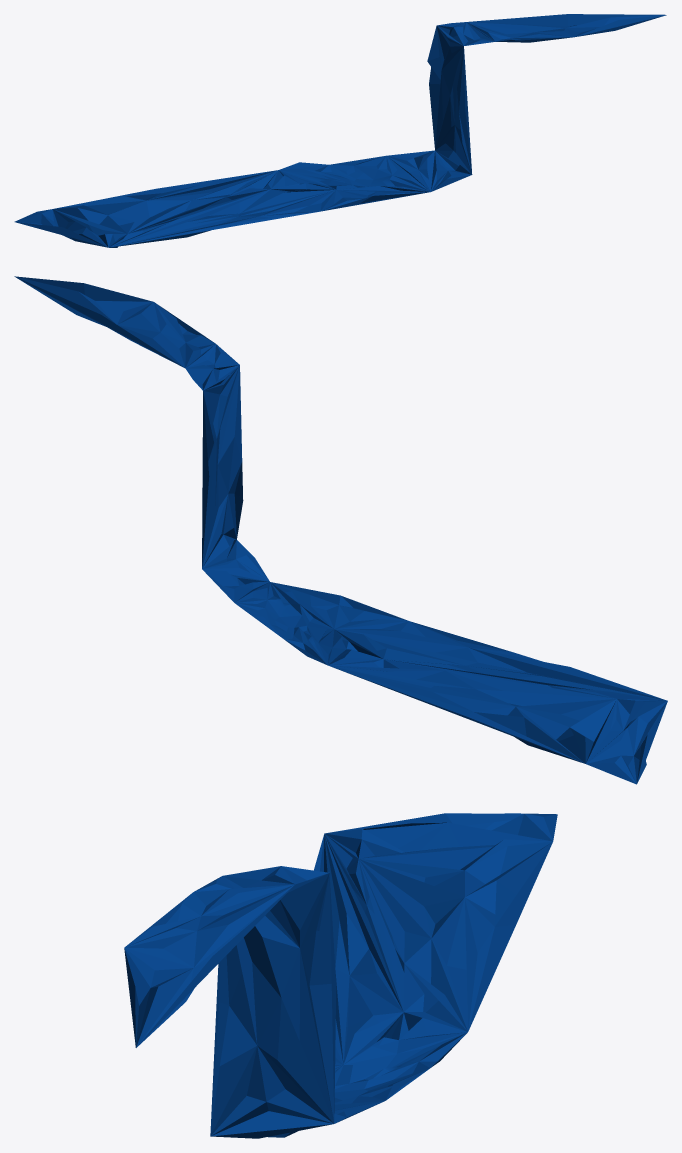
Rendered from river01.FBX.
3 renders of one model, top to bottom at view 1: azimuth 30°, elevation 25°; view 2: azimuth 150°, elevation 25°; view 3: azimuth 270°, elevation 25°, orthographic. The views are drawn at different scales.
Parts seen in each view (by area): view 1: river01; view 2: river01; view 3: river01.
Boxes of the visible parts, <box> form: river01: <box>14,14,666,247</box>; river01: <box>14,276,667,784</box>; river01: <box>124,813,557,1138</box>.
Bounding box in the file's own units: 17462 × 4867 × 5976.
